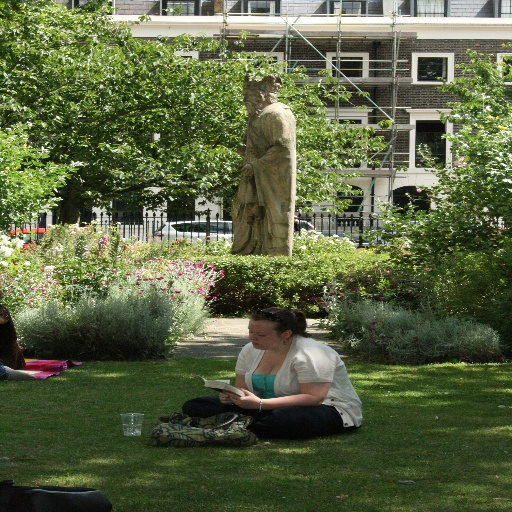hand: (230, 385, 259, 407), (219, 394, 234, 404)
